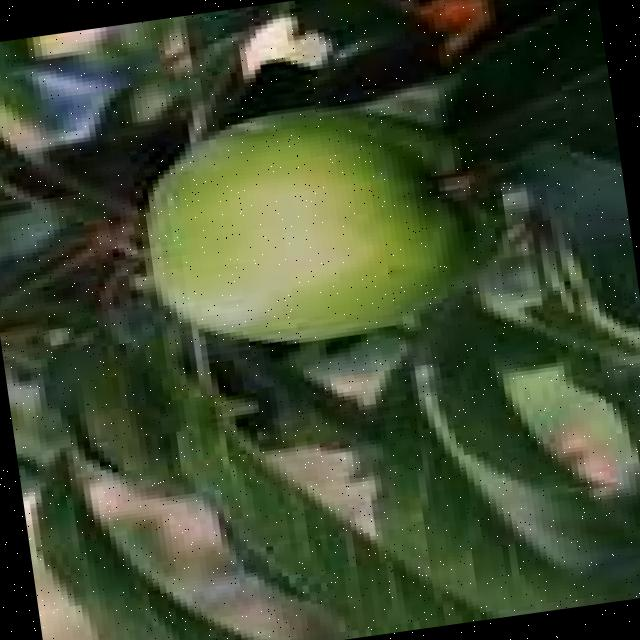Unripe: (126, 85, 512, 362)
